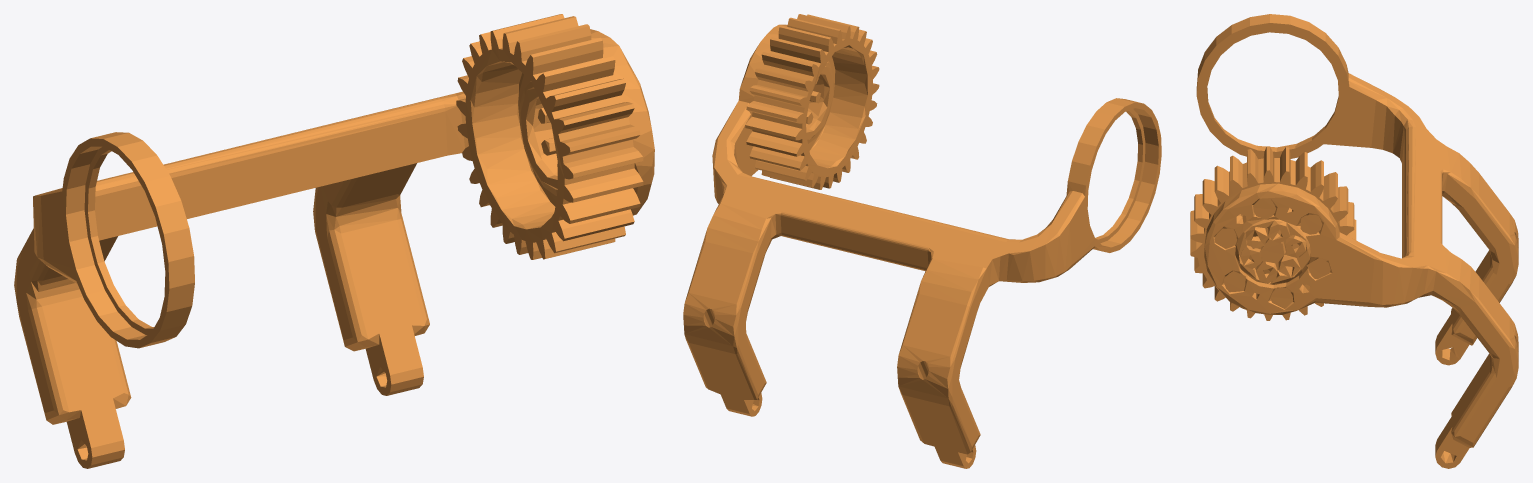
File: gripper_motor_double.dae
3 views of the same model, side by side, from view 1: azimuth 30°, elevation 25°; view 2: azimuth 150°, elevation 25°; view 3: azimuth 270°, elevation 25° (orthographic). The views are drawn at different scales.
Visible parts, largest first — view 1: gripper_motor_double; view 2: gripper_motor_double; view 3: gripper_motor_double.
Boxes of the visible parts, left/top/right/bottom form: gripper_motor_double: left=14, top=14, right=654, bottom=468; gripper_motor_double: left=683, top=14, right=1161, bottom=468; gripper_motor_double: left=1190, top=14, right=1518, bottom=468.
Bounding box in the file's own units: 0.1056 × 0.0859 × 0.0908.
